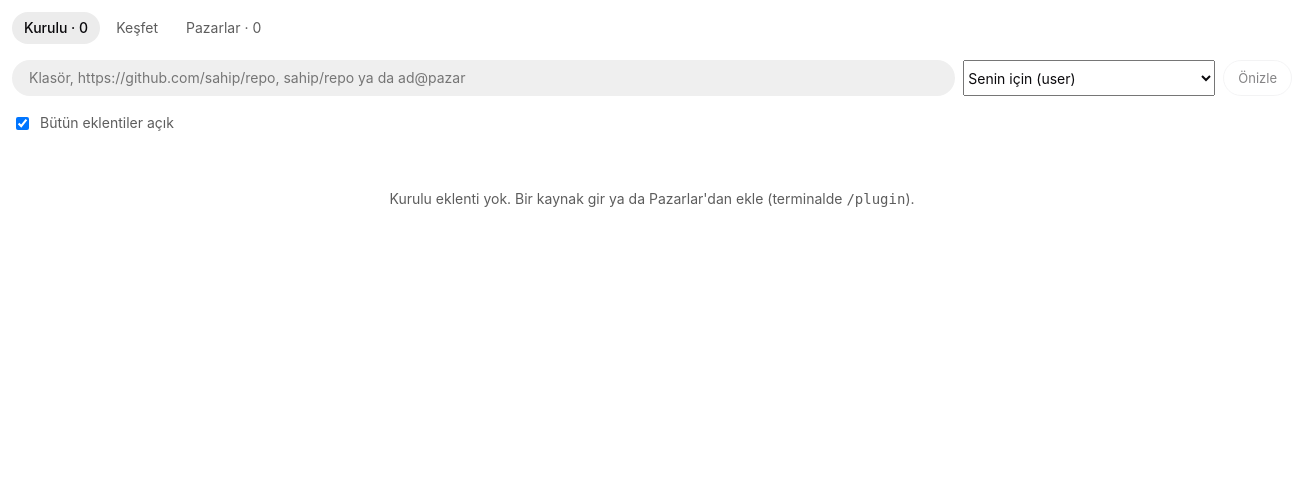
Test: hatalı önizlemede kur düğmesi kapalı ve bileşen özeti türkçe
Replace the text in the field named "Eklenti kaynağı" with "x": x=484, y=78 [12,60,955,96]
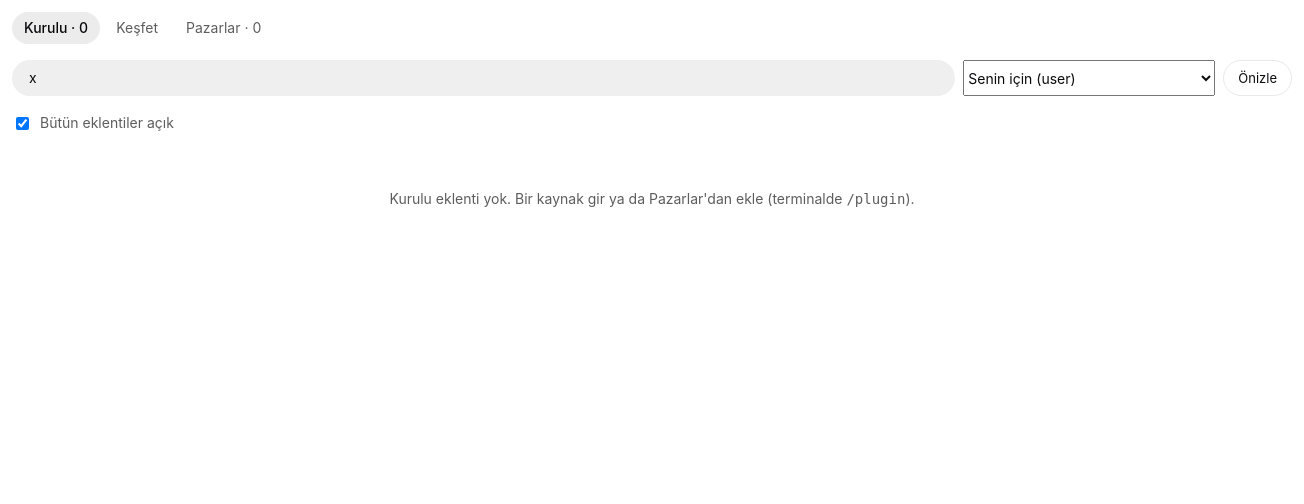
Click the button "Önizle": x=1258, y=78 [1223,60,1292,96]
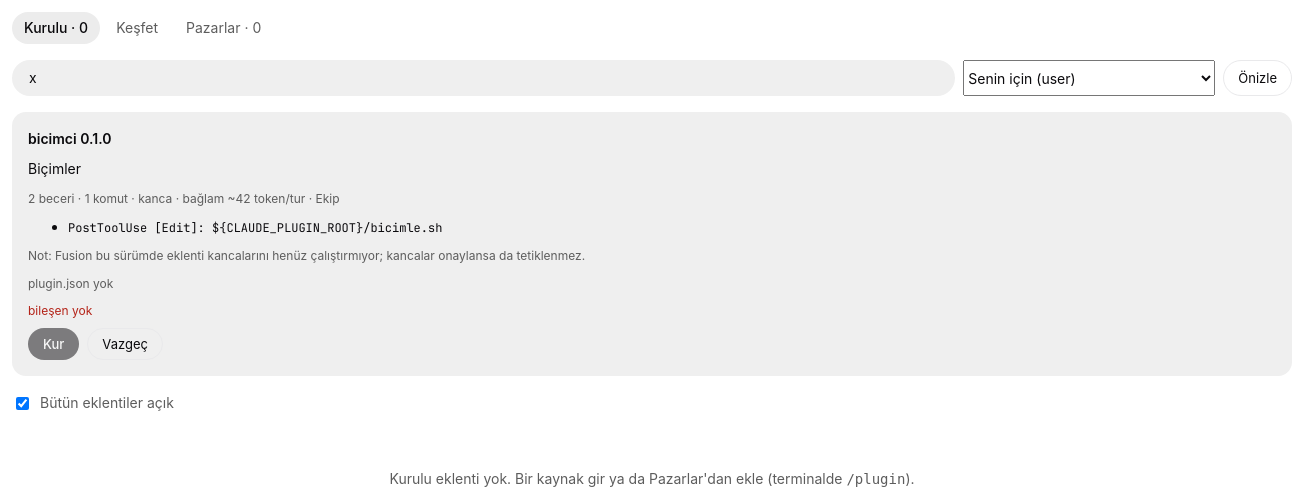
Expected: the button "Kur" is disabled, [28,328,79,360]
